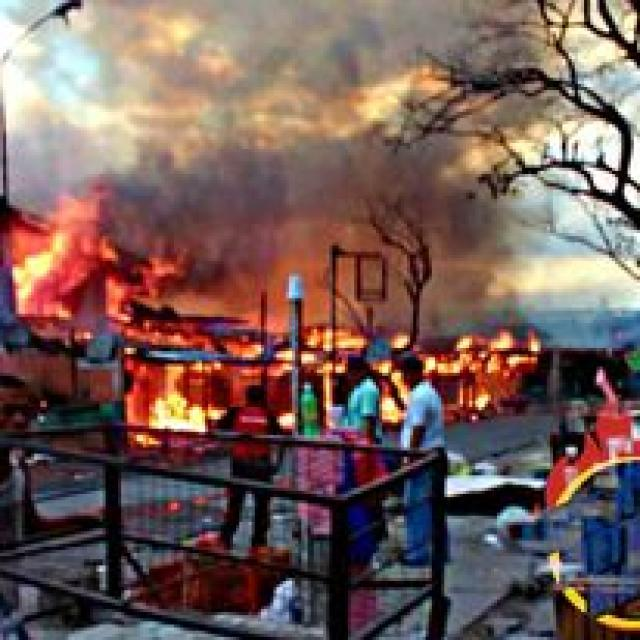Fire: (2, 212, 164, 335), (252, 324, 407, 424), (428, 308, 546, 412), (126, 340, 226, 442)
Smoke: (93, 0, 556, 349)
